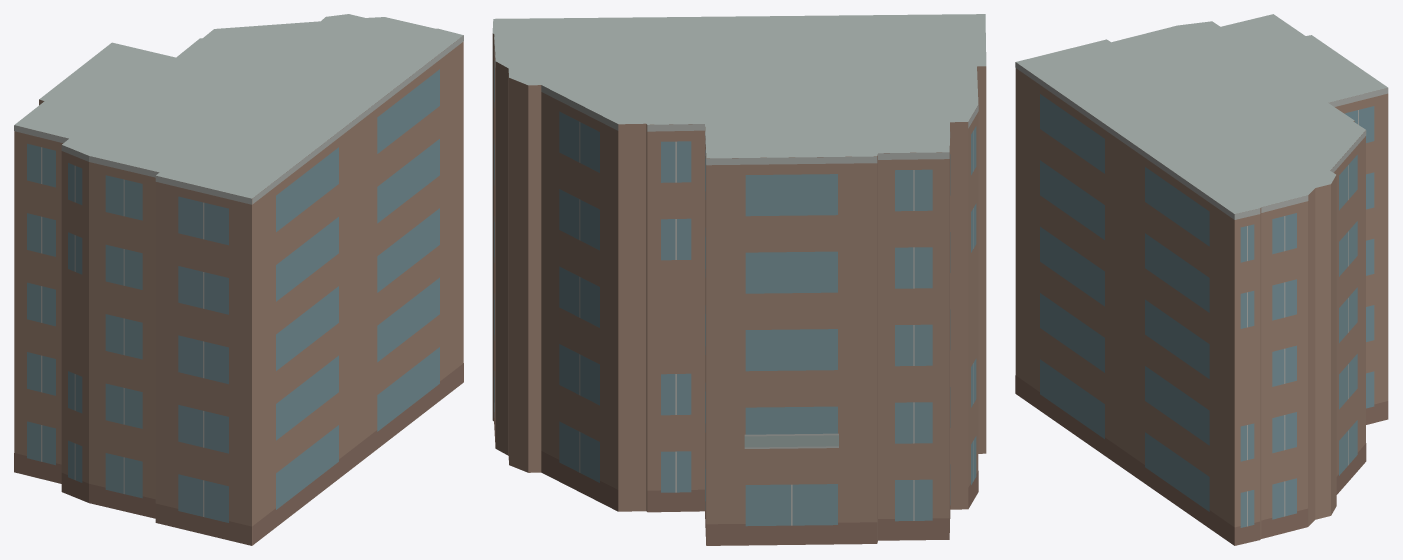
The model's file is survey-upis-32922083.glb.
The picture shows the model from 3 angles, left to right: view 1: azimuth 30°, elevation 25°; view 2: azimuth 150°, elevation 25°; view 3: azimuth 270°, elevation 25°; orthographic projection. The views are drawn at different scales.
Visible parts, largest first — view 1: survey-upis-32922083.tmp; view 2: survey-upis-32922083.tmp; view 3: survey-upis-32922083.tmp.
Part boxes in pixels (x1=…): survey-upis-32922083.tmp: x1=14, y1=14, x2=463, y2=545; survey-upis-32922083.tmp: x1=492, y1=14, x2=986, y2=545; survey-upis-32922083.tmp: x1=1015, y1=14, x2=1388, y2=545.
Bounding box in the file's own units: 18 × 13.9 × 14.17.
